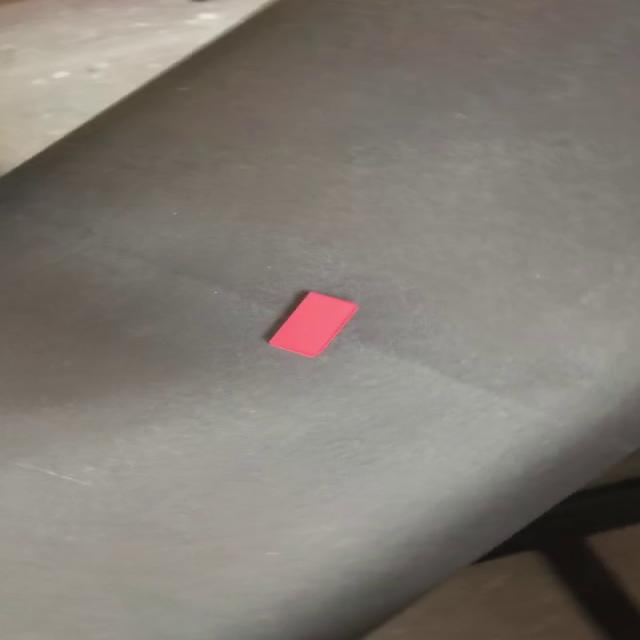red block: (266, 290, 358, 358)
